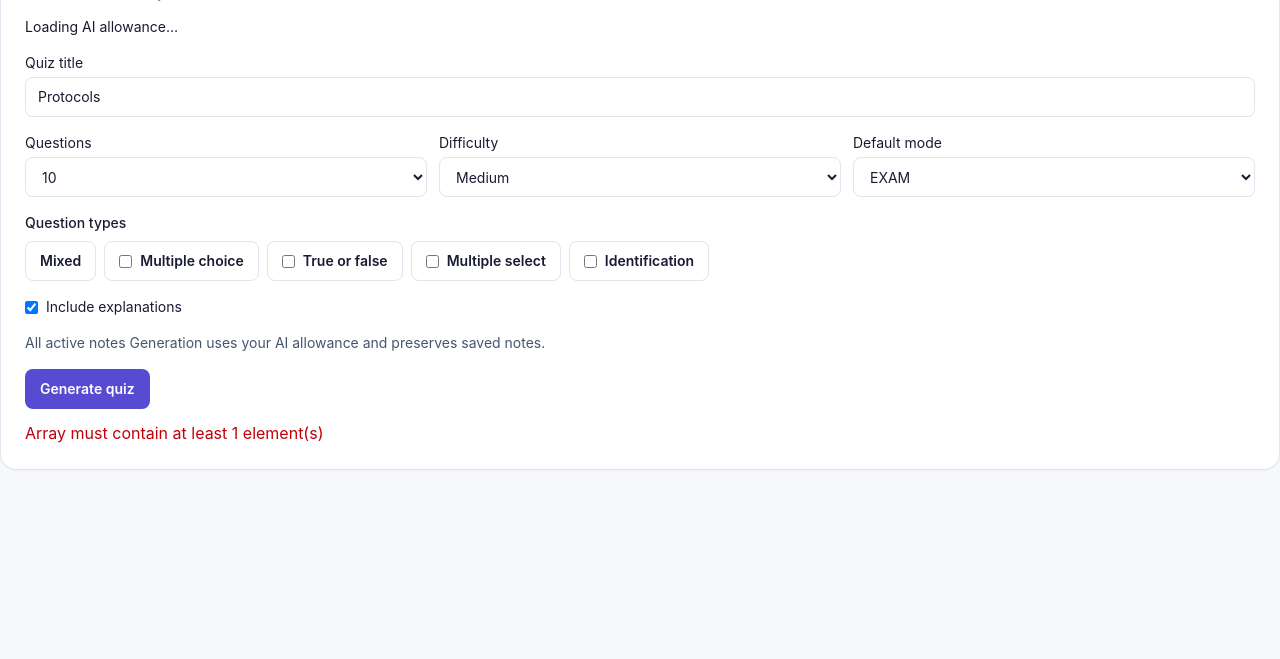
validates quiz settings before calls and retains them through same-key retry
Earlier steps of the test are not shown.
Expected: the message "Array must contain at least 1 element(s)" is shown, [25,423,324,443]
Click the checkbox labelled "Identification". click: x=590, y=261
box: [584,254,597,268]
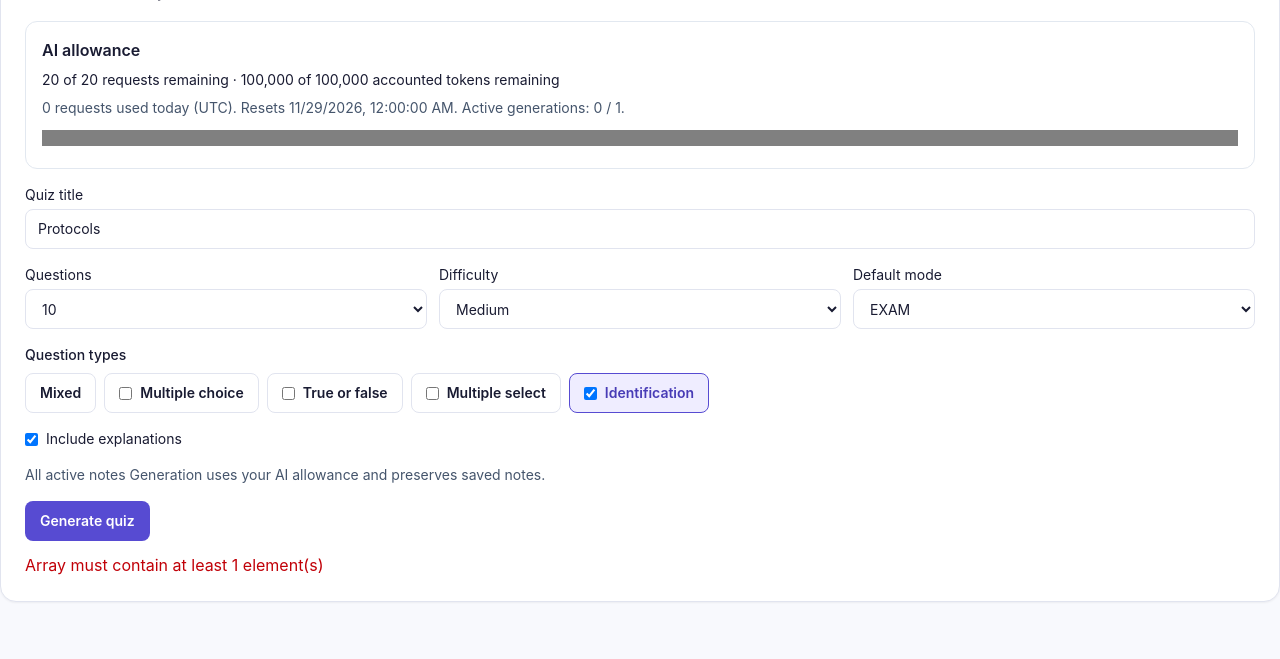
Select "5" in the dropdown labelled "Questions". click: x=226, y=309
box: [25,289,427,329]
Select "Hard" in the dropdown labelled "Difficulty". click: x=640, y=309
box: [439,289,841,329]
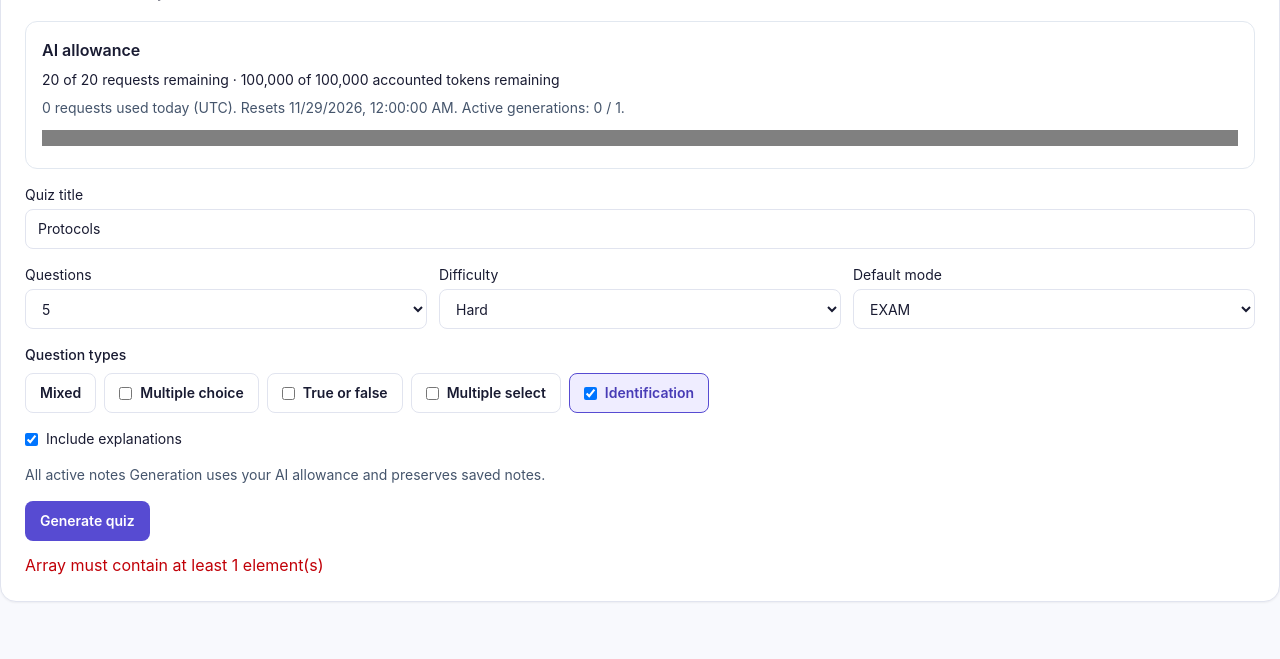
Select "EXAM" in the dropdown labelled "Default mode". click: x=1054, y=309
box: [853,289,1255,329]
Click the checkbox labelled "Include explanations". click: x=32, y=439
box: [25,432,38,446]
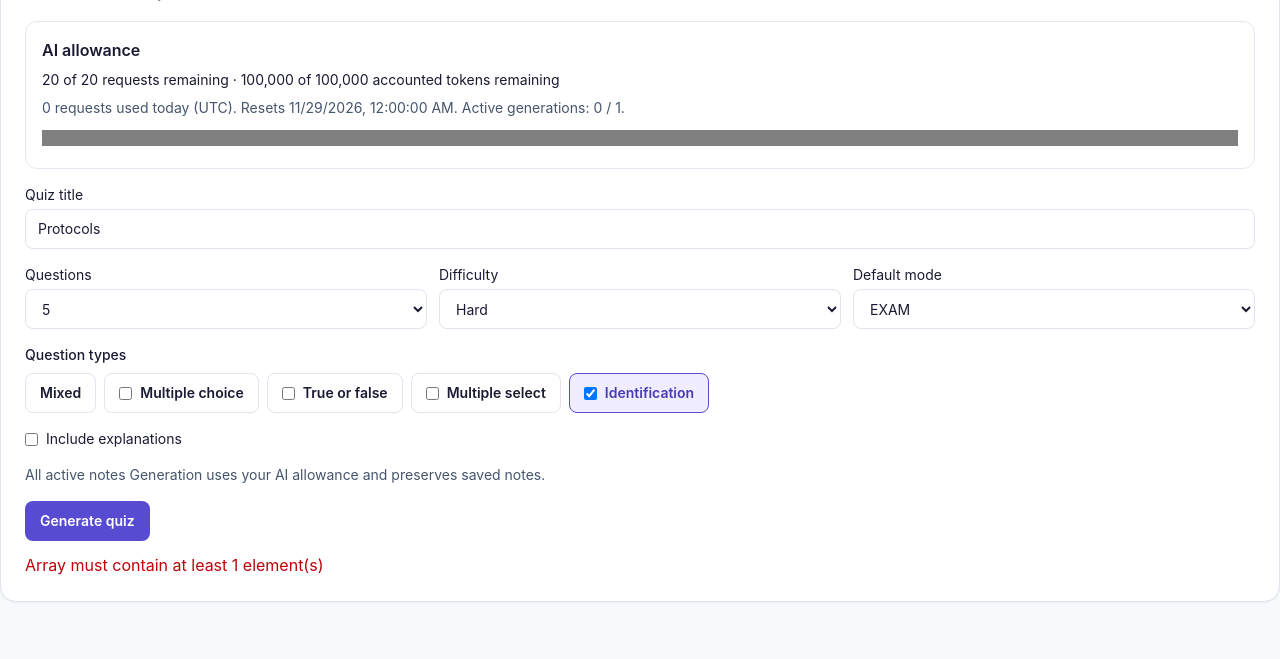
Click the button "Generate quiz". click: x=87, y=521
box: [25,501,150,541]
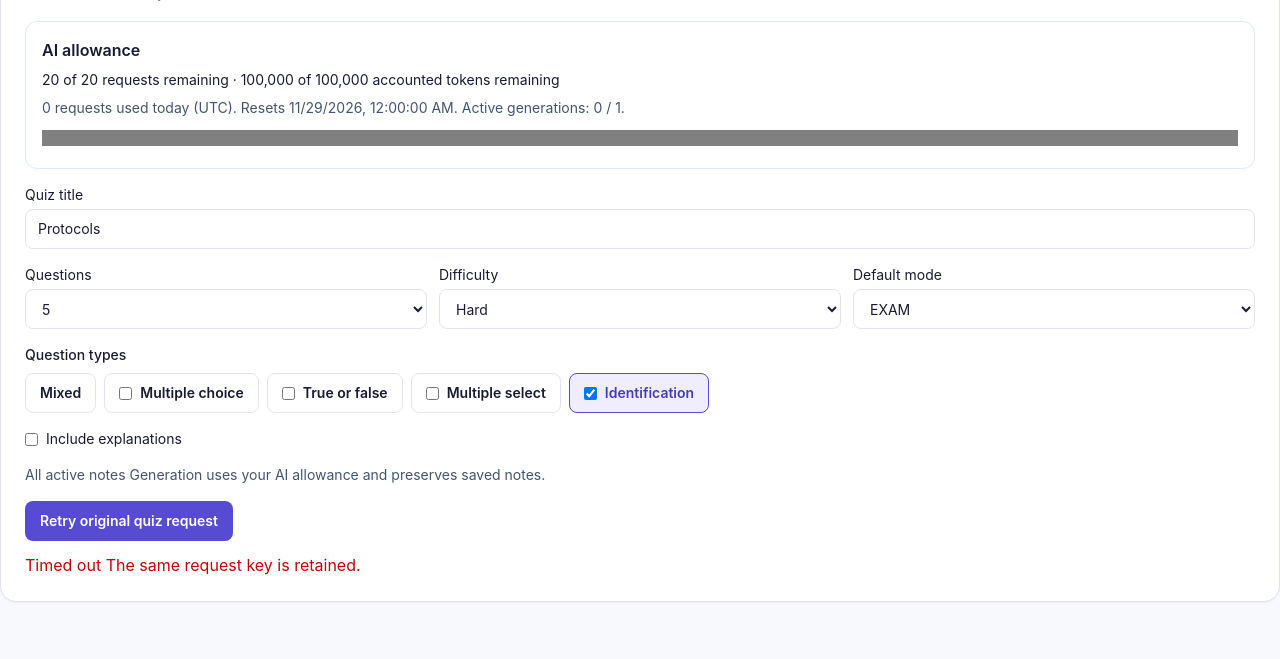
Result: the message shows "Timed out" at [25,555,101,575]
Click the button "Retry original quiz request". click: x=129, y=521
box: [25,501,233,541]
(page scrolled)
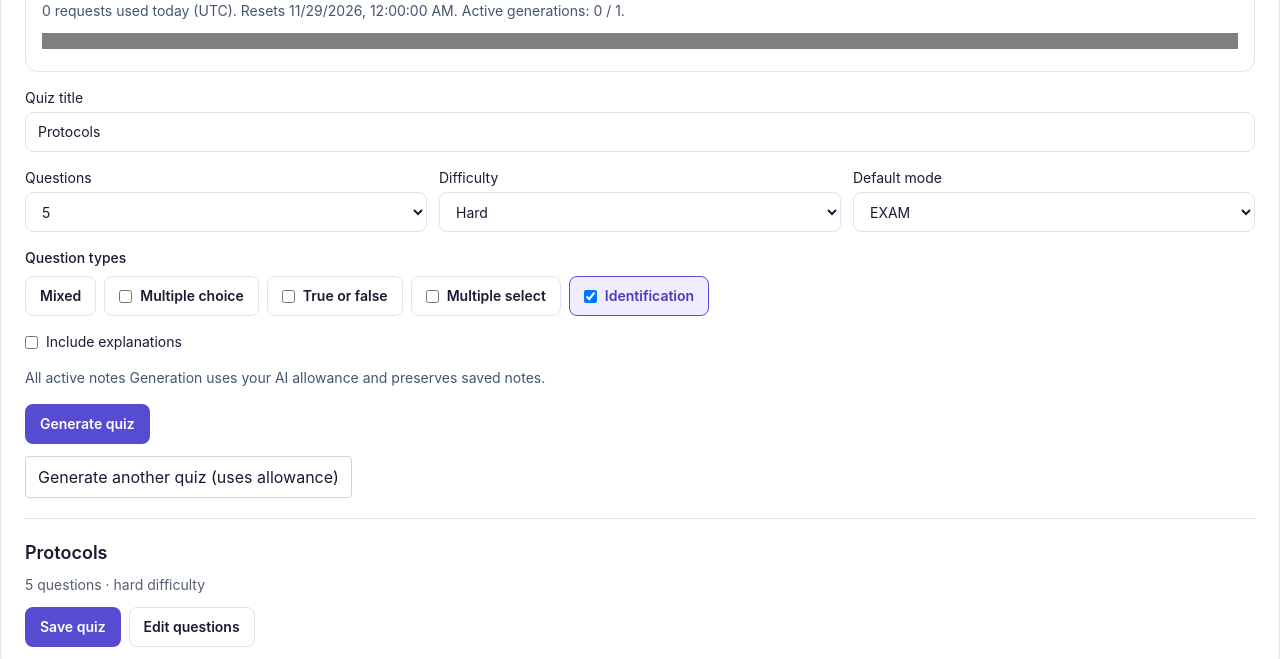
Expected: the field labelled "Question 1 accepted answers (one per line)" is not shown
Result: the element named "Quiz preview" is shown at [25,518,1255,647]
Click the button "Edit questions". click: x=192, y=627
box: [129,607,255,647]
(page scrolled)
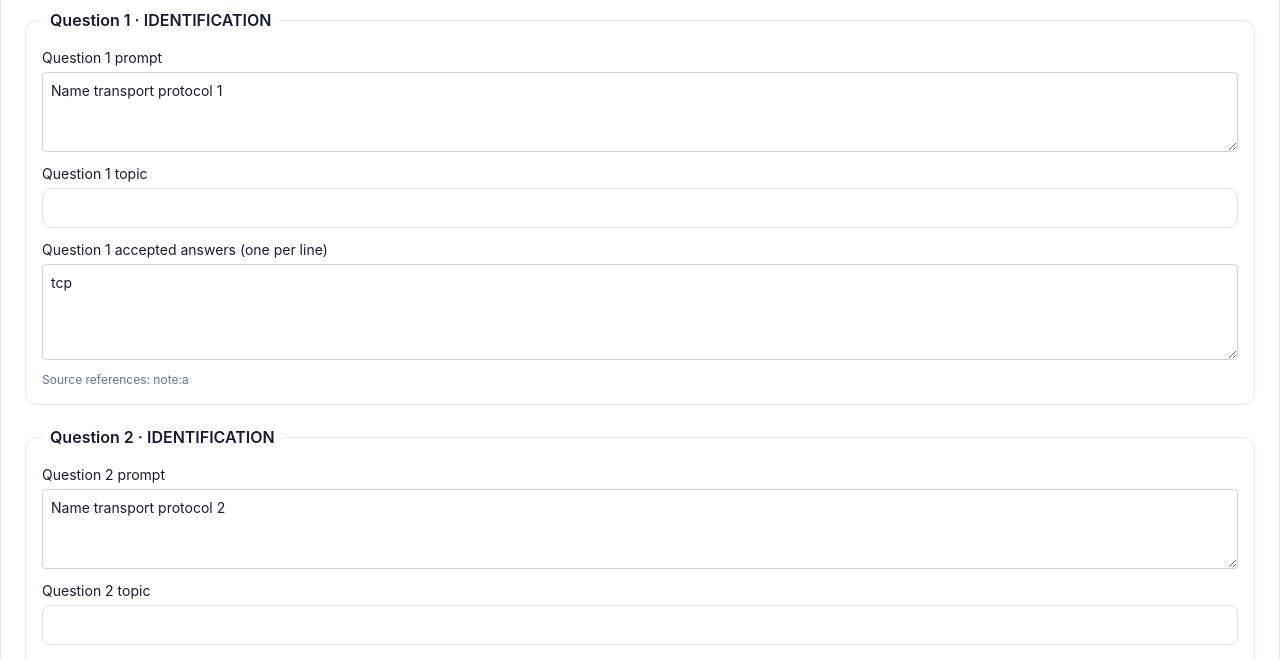
Result: the text box labelled "Question 1 accepted answers (one per line)" holds "tcp" at [42,264,1238,360]
